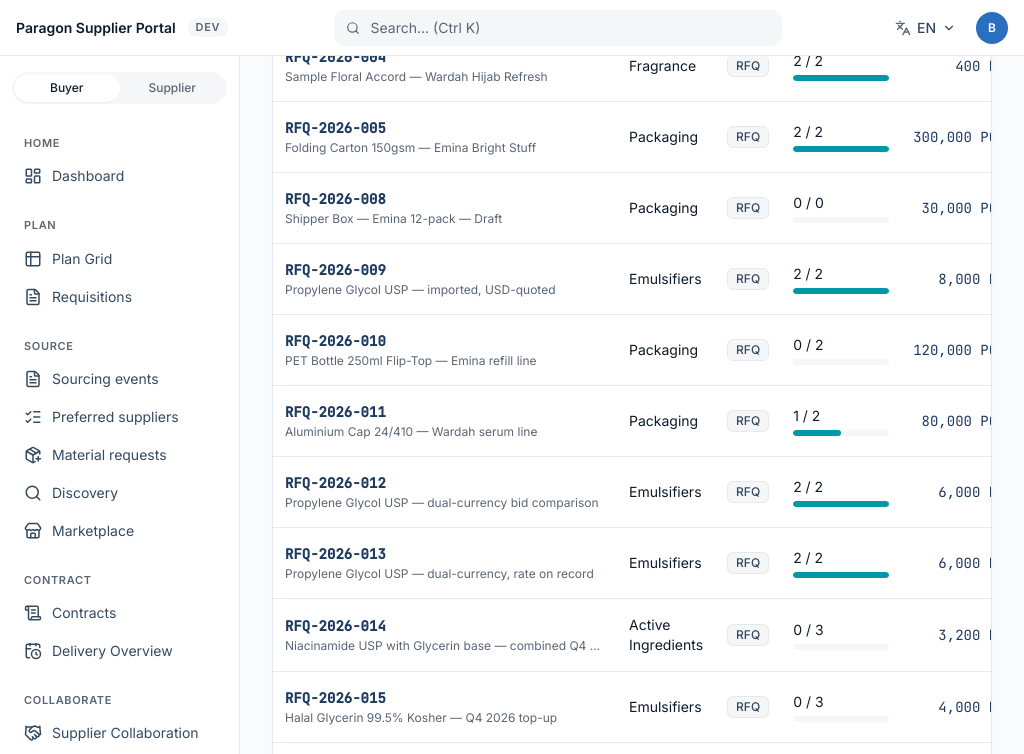
it: §76 · the drawer — move to review (PER QUOTE) › WITHHELD: the owner is read in the QUOTE CELL, once per Submitted quote
(page scrolled)
Click the text "RFQ-2026-011".
click(335, 412)  # box [285,403,386,421]
(page scrolled)
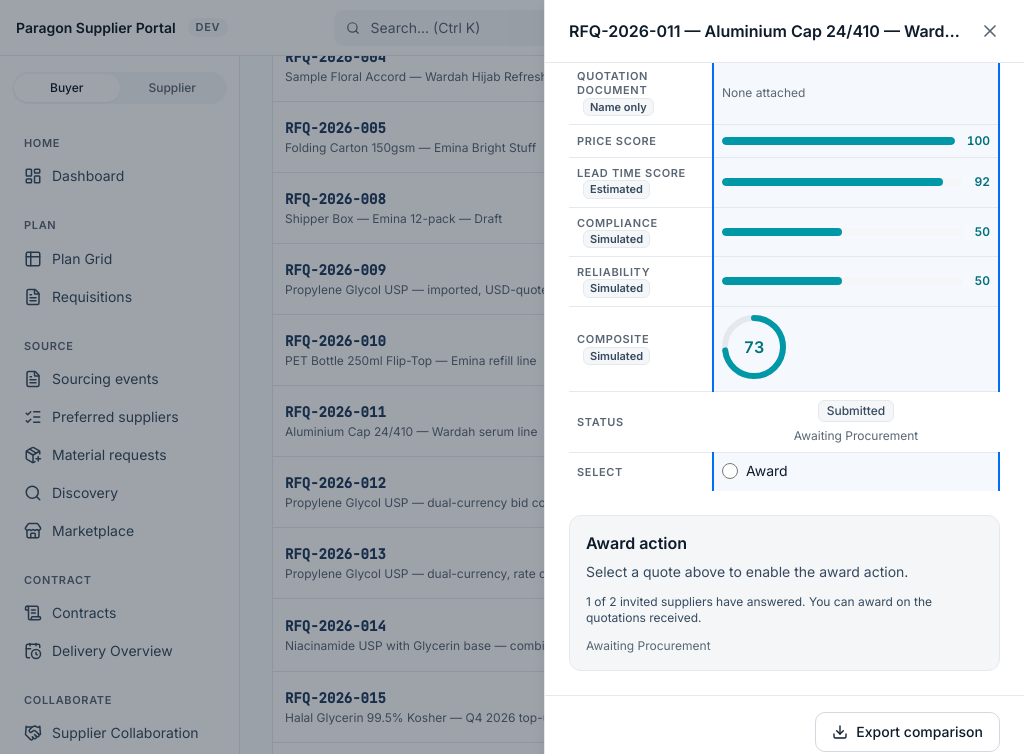
Expected: the number of elements with test id "handoff-rfq-review" is 1, [794,428,918,444]
Expected: the text with test id "handoff-rfq-review" reads "Awaiting Procurement", [794,428,918,443]
